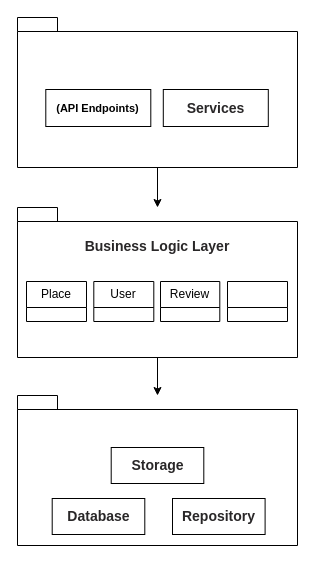
Image size: 315x563. Some labels were removed from this diagram. The shapes that lost their labels are listed below. From the top down, each one's box as (x1, y1, x2, y2) in pixels, then its label:
(16, 16, 298, 168): Presentation Layer
(226, 280, 288, 322): Amenity
(16, 394, 298, 546): Persistence Layer
